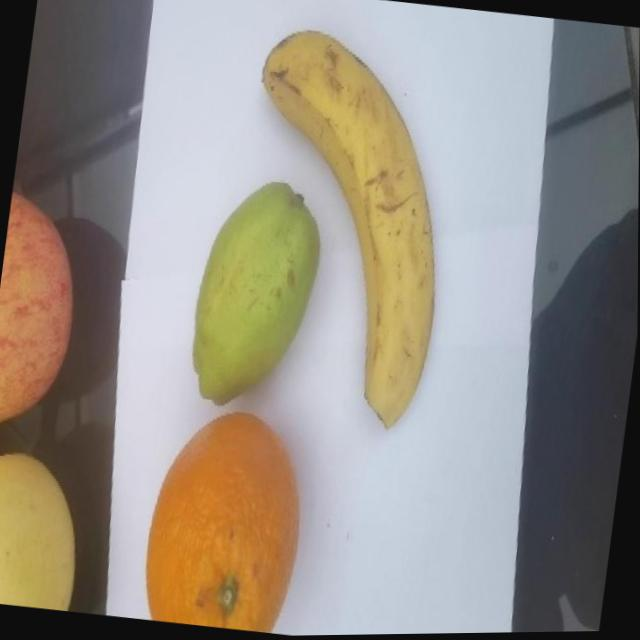Apple: (0, 188, 89, 436)
Banana: (216, 22, 469, 436)
Orange: (138, 400, 314, 636)
